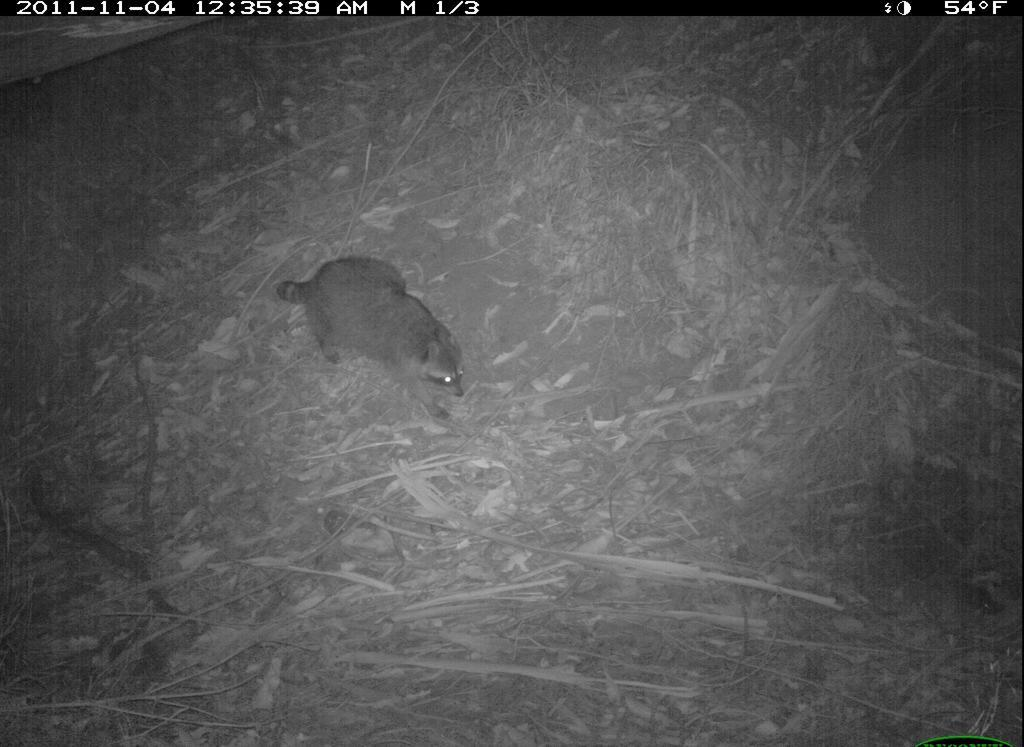raccoon: (263, 230, 489, 443)
